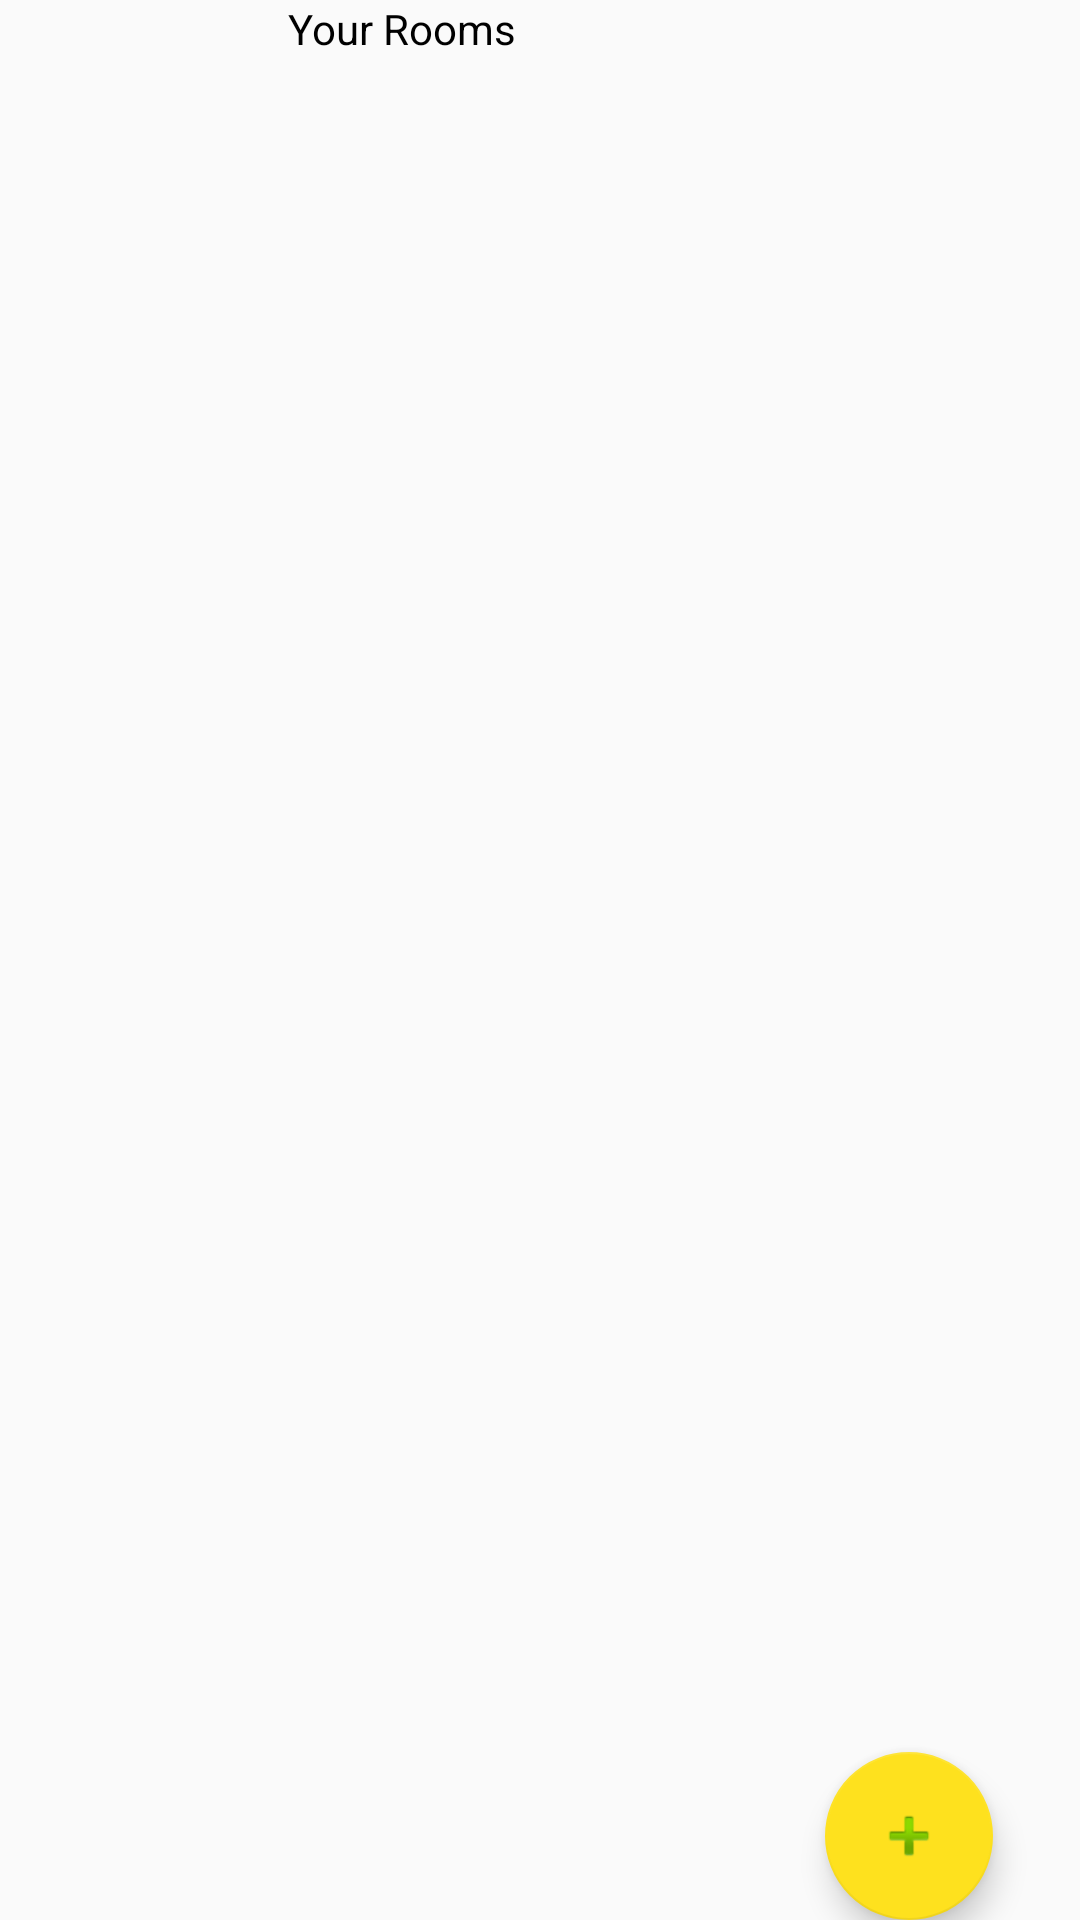

Icons on this 1080×1920 Android screen, each with the point to tap as (x,y):
add: (909,1836)
